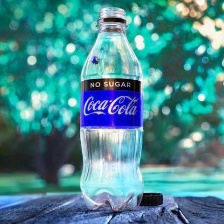bottle: (76, 3, 149, 212)
